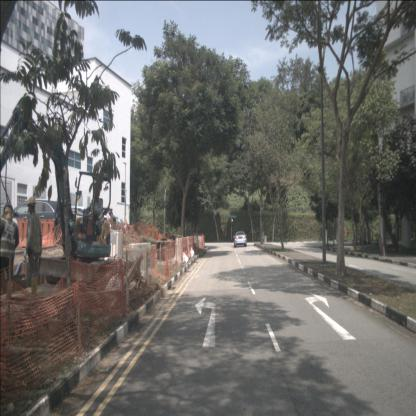barrier: (16, 217, 56, 249), (128, 241, 152, 288), (150, 245, 160, 280), (172, 238, 182, 266), (181, 236, 189, 264), (187, 236, 194, 258), (194, 235, 203, 250), (359, 225, 366, 244), (367, 228, 372, 244), (201, 234, 206, 249)
cone: (163, 256, 171, 280)
